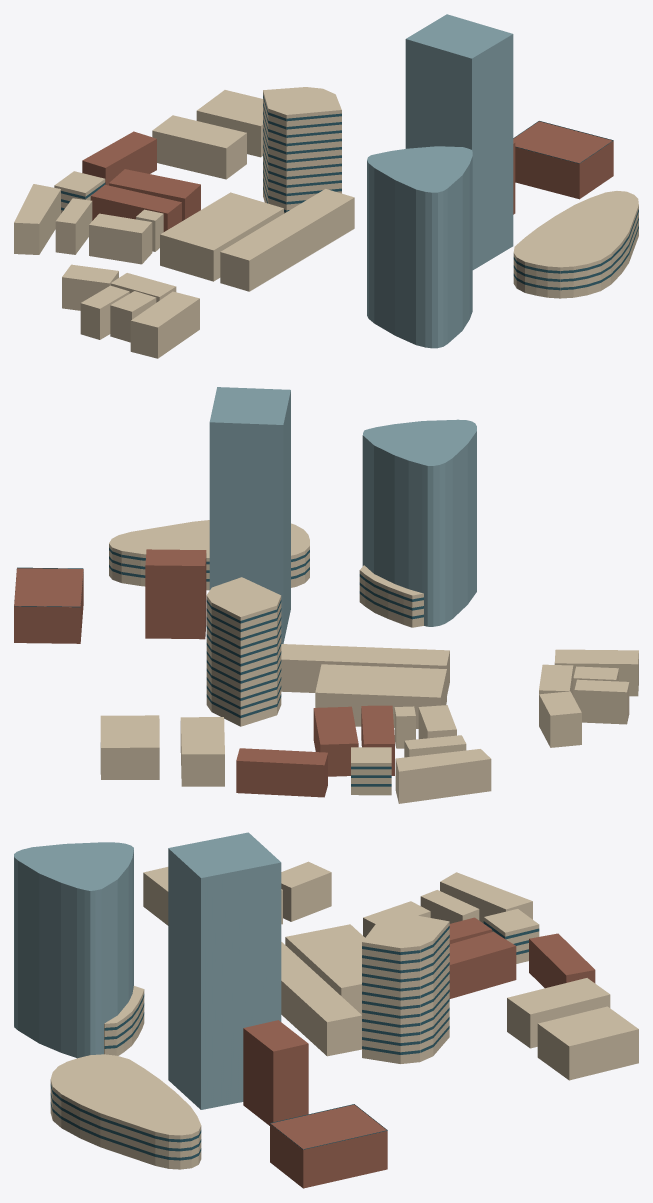
Rendered from city_0_4.glb.
3 views of the same model, one above another, from view 1: azimuth 30°, elevation 25°; view 2: azimuth 150°, elevation 25°; view 3: azimuth 270°, elevation 25° (orthographic). The views are drawn at different scales.
Visible parts, largest first — view 1: city_0_4; view 2: city_0_4; view 3: city_0_4.
Part boxes in pixels (box(x1,y1,x2,y2)): city_0_4: box(14, 14, 638, 358); city_0_4: box(14, 387, 638, 803); city_0_4: box(14, 832, 638, 1188).
Size of the model in its own units: 282 by 102 by 249.
